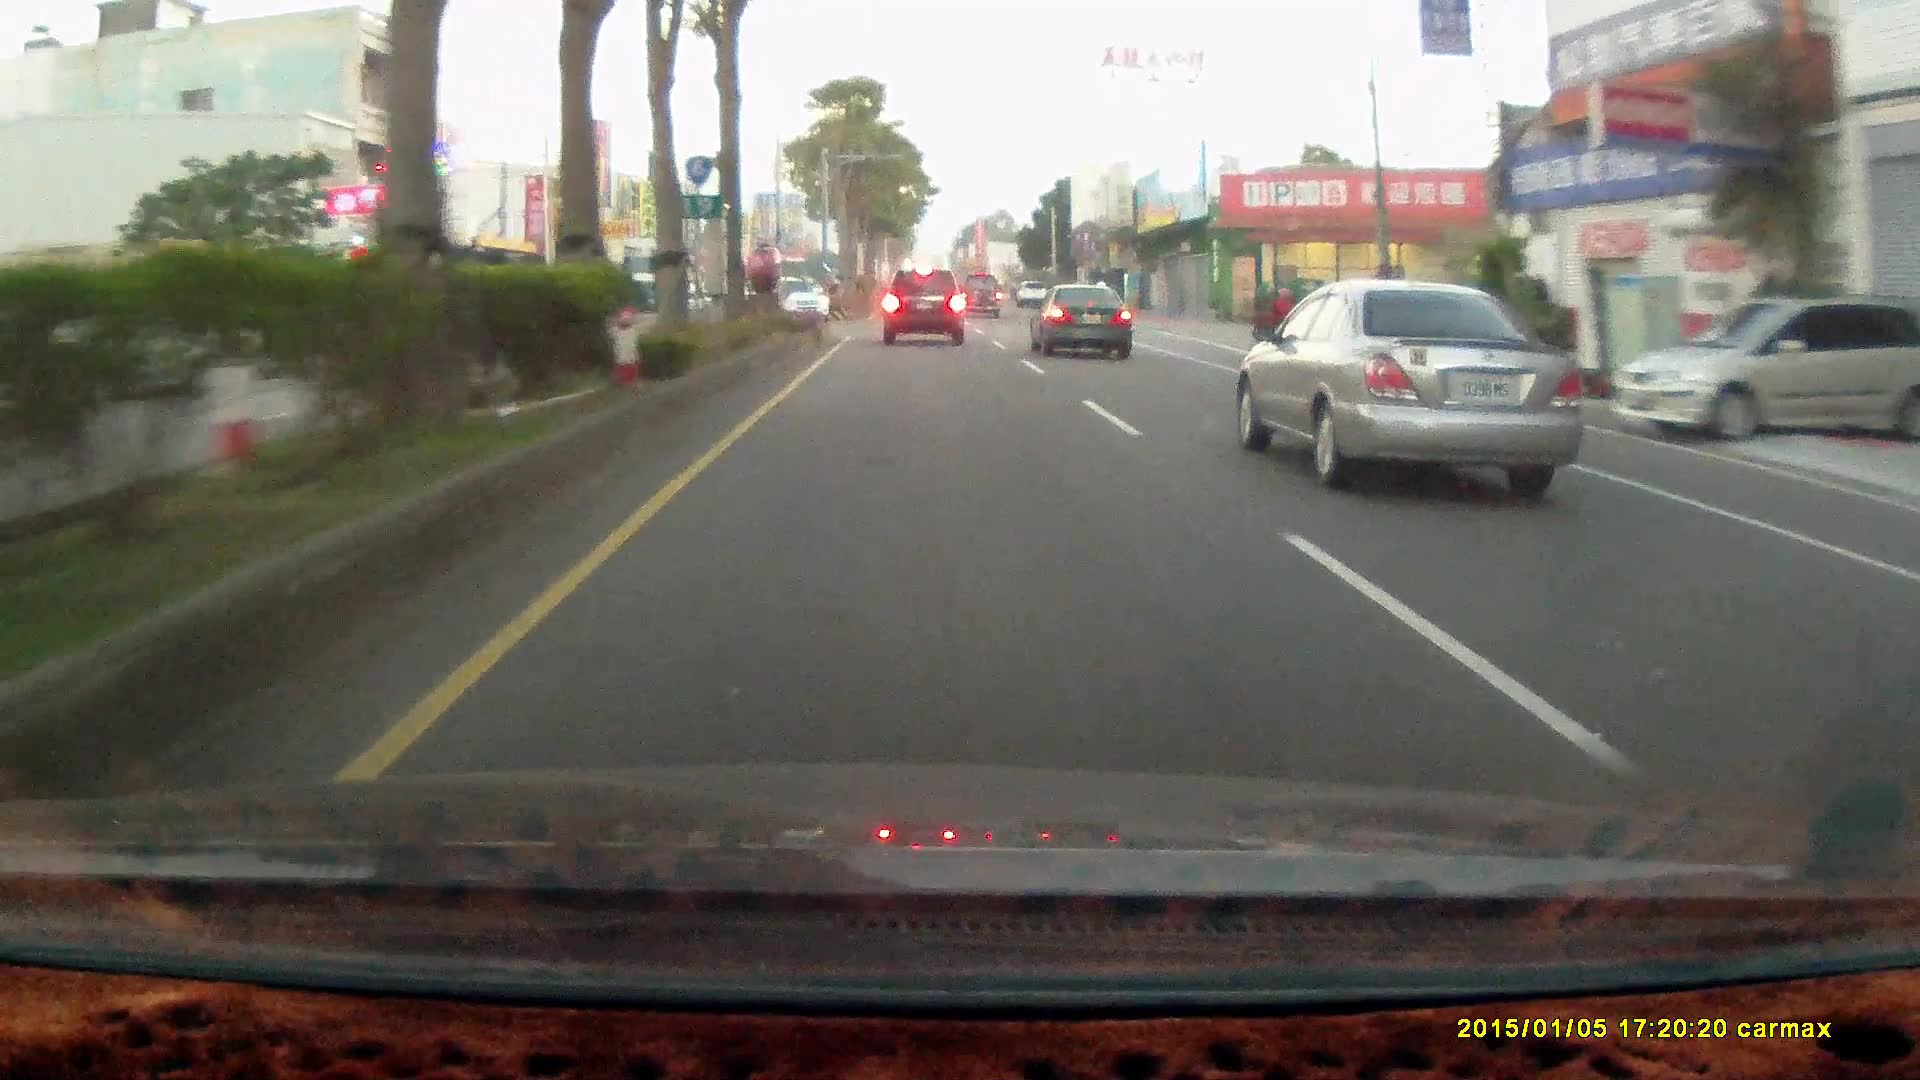pedestrian: (1269, 282, 1302, 362), (1272, 295, 1304, 371)
vehicle: (1238, 292, 1577, 504), (1605, 290, 1919, 449), (1606, 291, 1920, 450), (1030, 285, 1137, 364), (1028, 280, 1131, 359), (881, 270, 969, 351), (882, 270, 963, 345), (765, 273, 828, 329), (958, 276, 1003, 322), (957, 274, 1001, 320)
